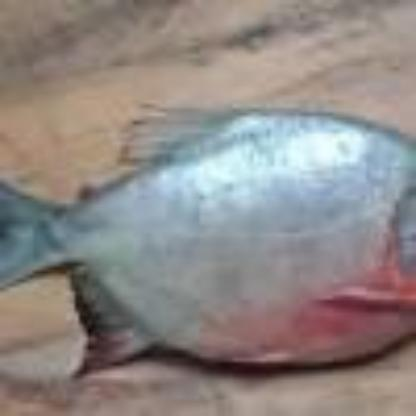ikan-pacu: (0, 112, 408, 364)
